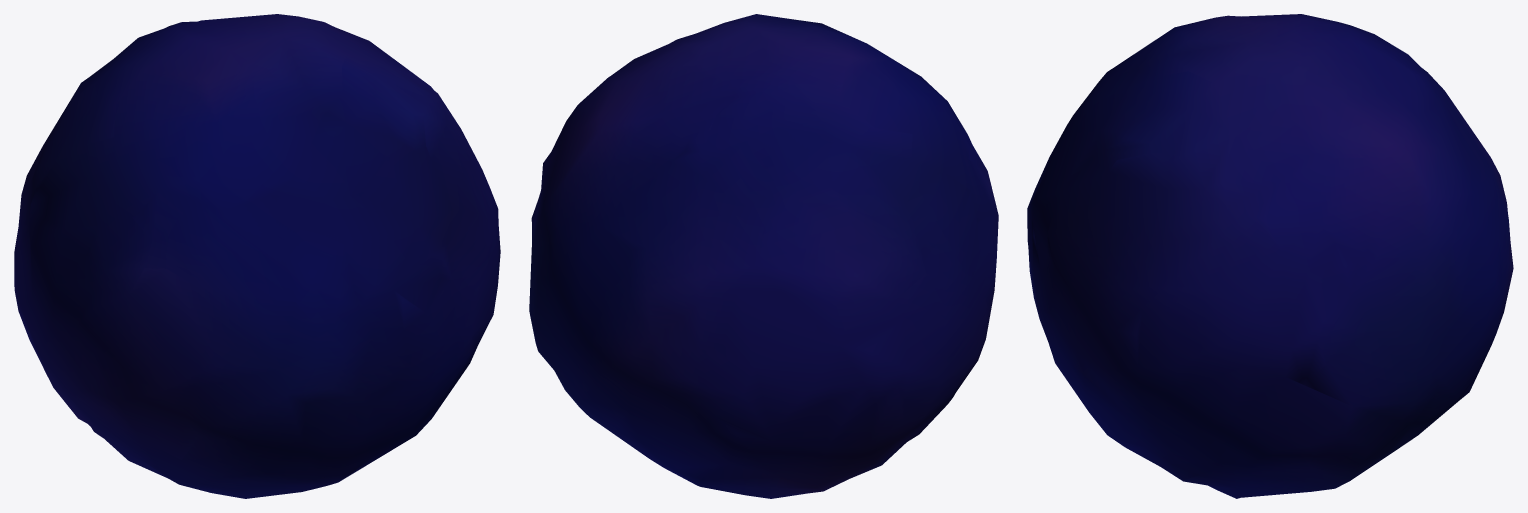
File: SkyDome.fbx
3 views of the same model, side by side, from view 1: azimuth 30°, elevation 25°; view 2: azimuth 150°, elevation 25°; view 3: azimuth 270°, elevation 25° (orthographic).
Visible parts, largest first — view 1: SkyDome; view 2: SkyDome; view 3: SkyDome.
Part boxes in pixels (x1=…): SkyDome: x1=14, y1=14, x2=500, y2=498; SkyDome: x1=529, y1=14, x2=998, y2=498; SkyDome: x1=1027, y1=14, x2=1513, y2=498.
Bounding box in the file's own units: 143069 × 144429 × 144987.
